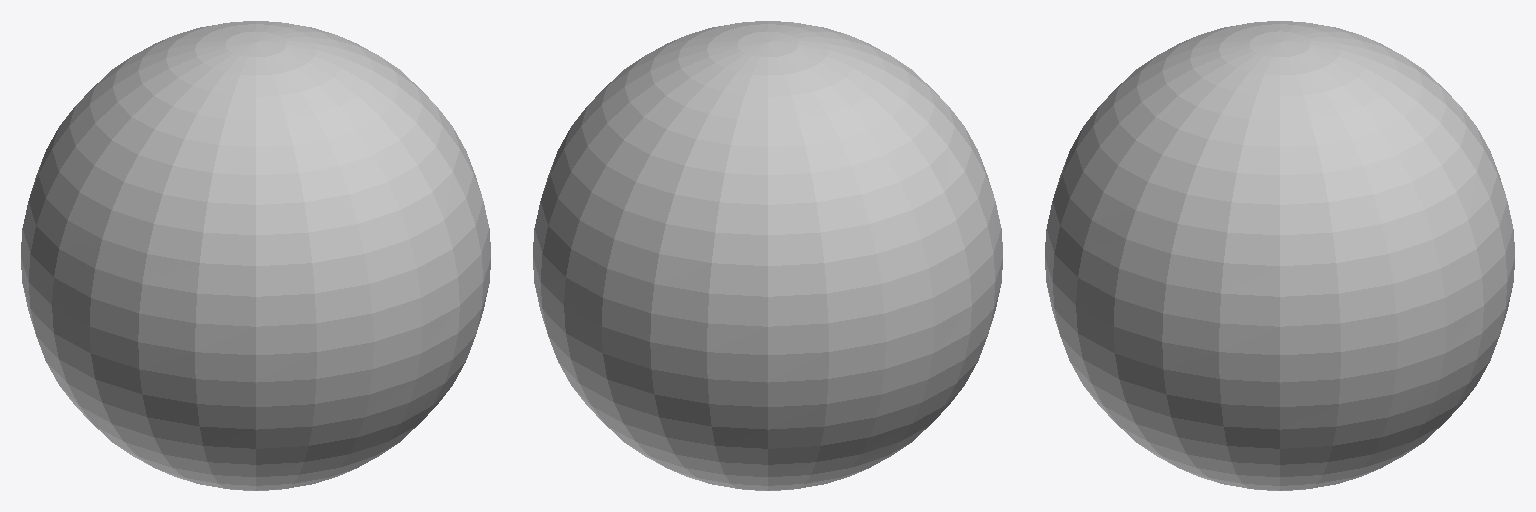
File: Mercurio.obj
The picture shows the model from 3 angles: view 1: azimuth 30°, elevation 25°; view 2: azimuth 150°, elevation 25°; view 3: azimuth 270°, elevation 25°; orthographic projection.
Parts seen in each view (by area): view 1: Sphere8; view 2: Sphere8; view 3: Sphere8.
Boxes of the visible parts, x1,y1,x2,y2 form: Sphere8: [21, 21, 490, 490]; Sphere8: [533, 21, 1002, 490]; Sphere8: [1045, 21, 1514, 490].
Size of the model in its own units: 0.7606 by 0.7606 by 0.7606.